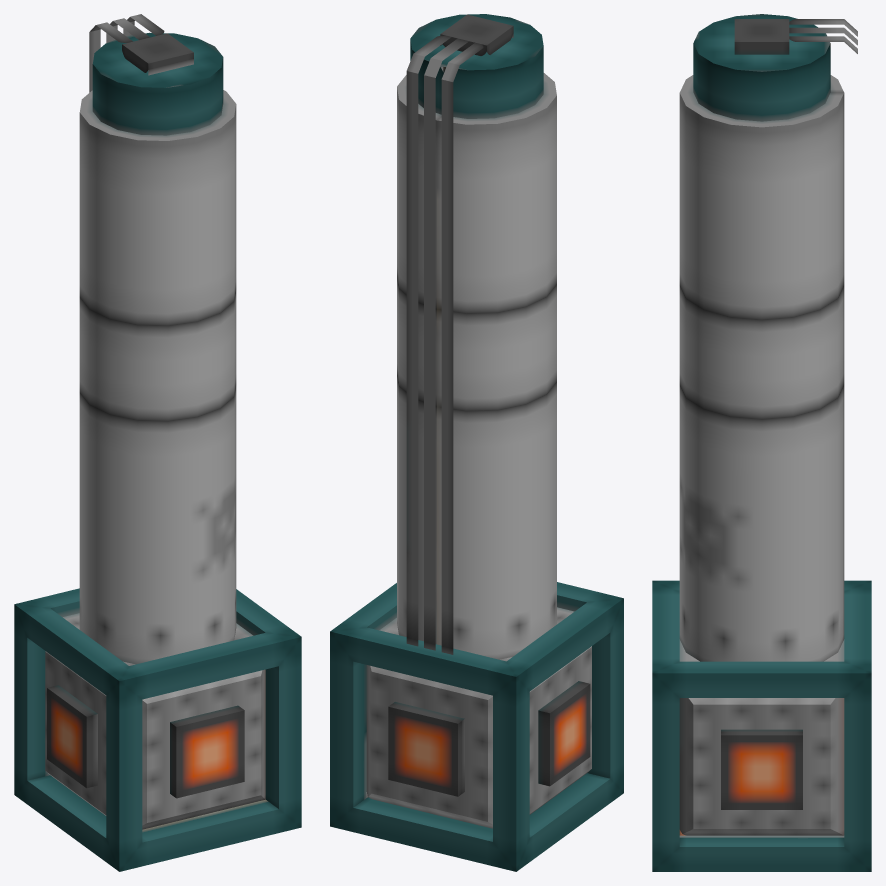
Rendered from centrifuge.obj.
3 views of the same model, side by side, from view 1: azimuth 30°, elevation 25°; view 2: azimuth 150°, elevation 25°; view 3: azimuth 270°, elevation 25° (orthographic). The views are drawn at different scales.
Visible parts, largest first — view 1: Cube_Cube.001; view 2: Cube_Cube.001; view 3: Cube_Cube.001.
Boxes of the visible parts, x1,y1,x2,y2 form: Cube_Cube.001: (14, 14, 301, 871); Cube_Cube.001: (330, 14, 623, 871); Cube_Cube.001: (652, 14, 871, 871).
Bounding box in the file's own units: 1 × 4 × 1.
